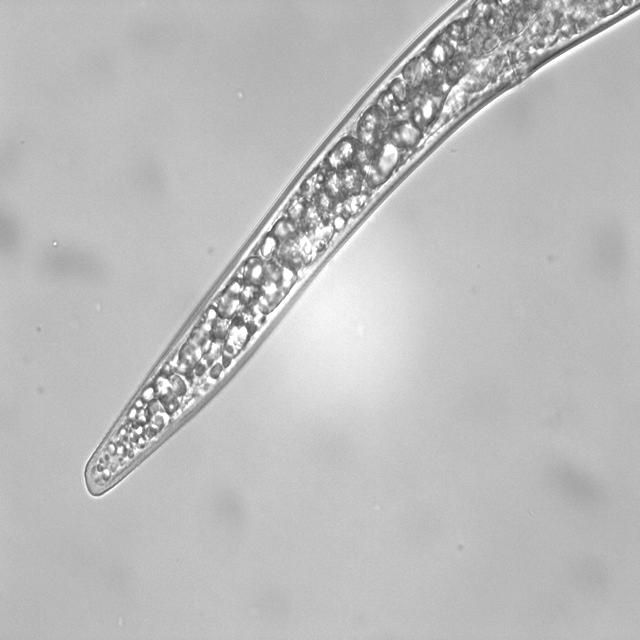Pratylenchus: (74, 0, 639, 505)
